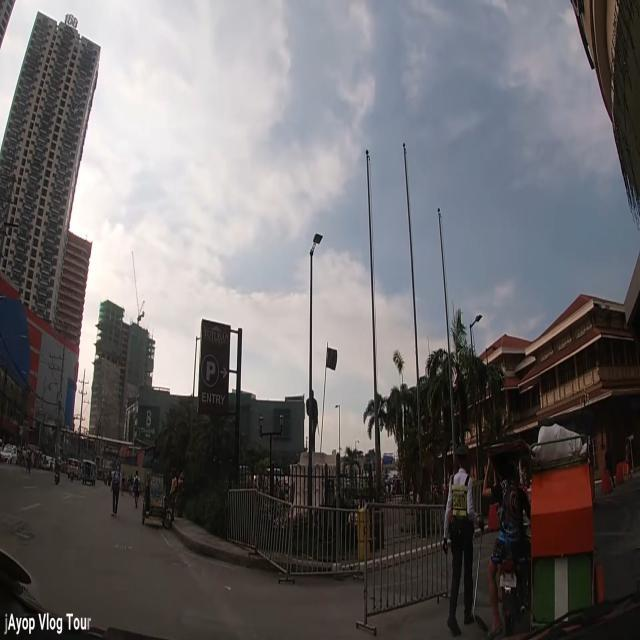car: (0, 446, 16, 465)
jeepney: (80, 458, 97, 486), (96, 468, 104, 482)
motorcycle: (54, 457, 62, 487), (70, 464, 74, 482)
tricycle: (486, 421, 607, 640), (142, 472, 172, 529)
